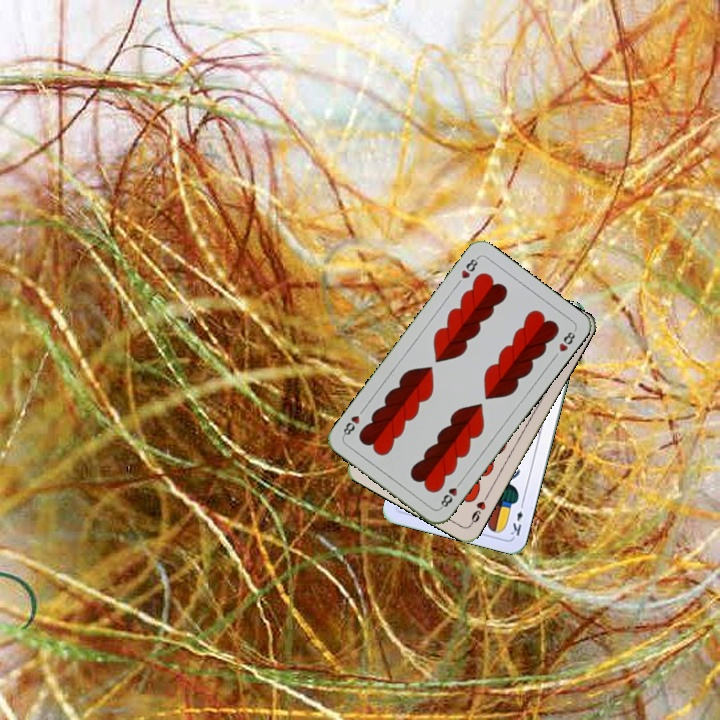EK: (507, 498, 526, 539)
H8: (436, 476, 465, 511), (457, 253, 481, 281)
H9: (466, 491, 491, 528)
